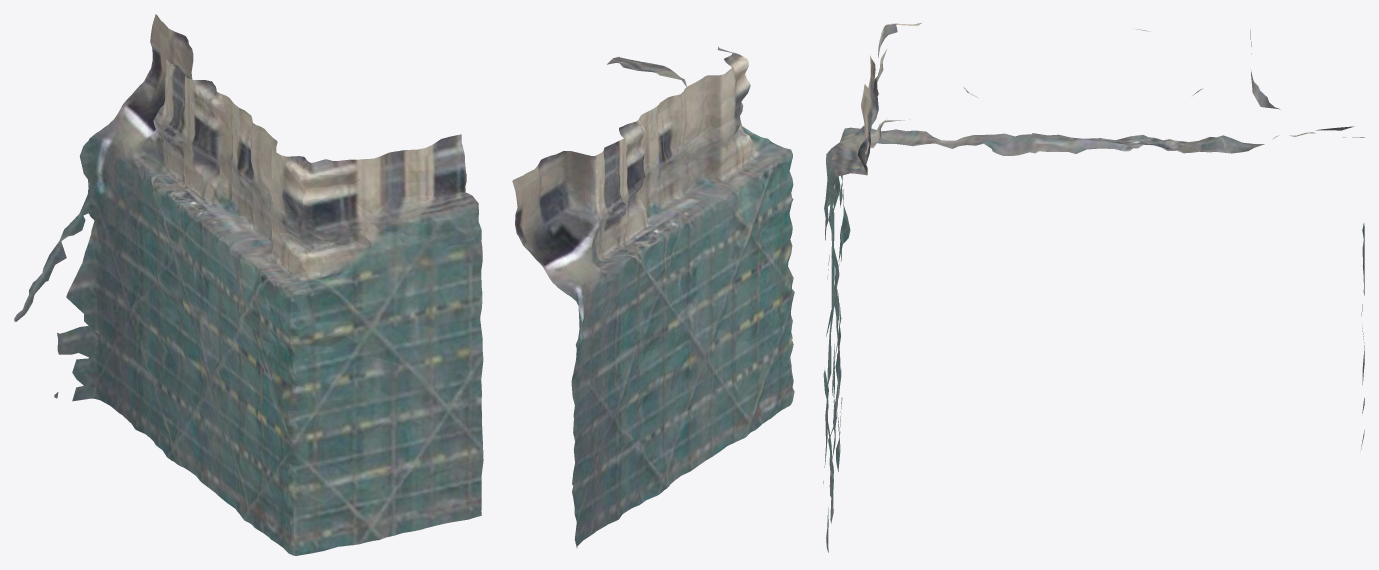
Rendered from Tile_+003_+002_L22_00010500.glb.
3 renders of one model, left to right at view 1: azimuth 30°, elevation 25°; view 2: azimuth 150°, elevation 25°; view 3: azimuth 270°, elevation 25°, orthographic. The views are drawn at different scales.
Parts seen in each view (by area): view 1: rtc; view 2: rtc; view 3: rtc.
Part boxes in pixels (x1,y1,x2,y2): rtc: [14, 14, 483, 555]; rtc: [512, 46, 794, 547]; rtc: [823, 23, 1364, 552].
Size of the model in its own units: 7.22 by 10.23 by 11.19.
Materials: 1 (1 with a texture image).
